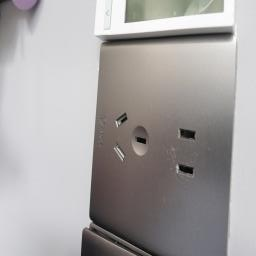outlet: (84, 30, 238, 256)
